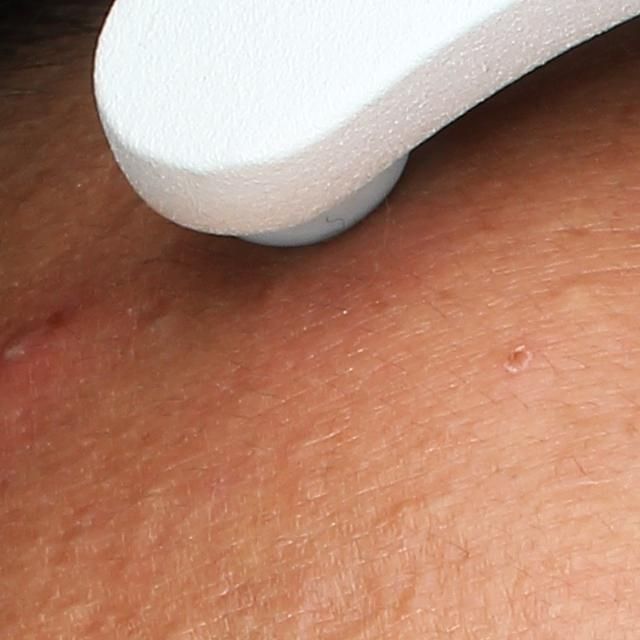comedo: (551, 275, 594, 312)
